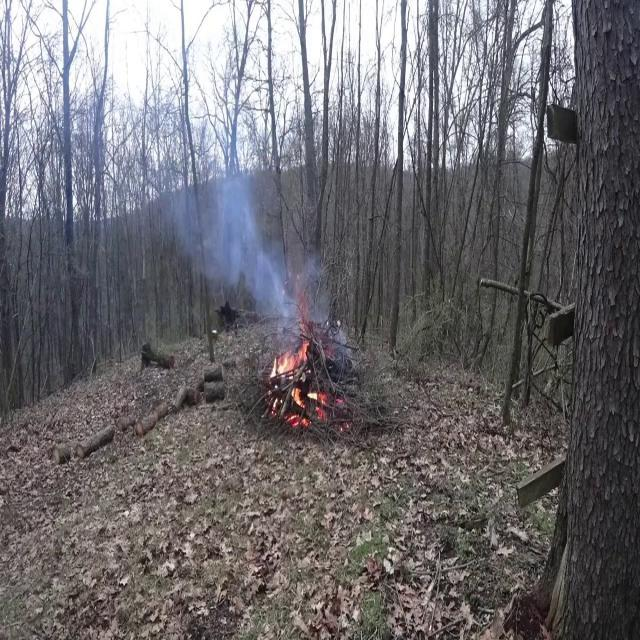Fire: (268, 340, 310, 382)
Smoke: (160, 132, 330, 344)
